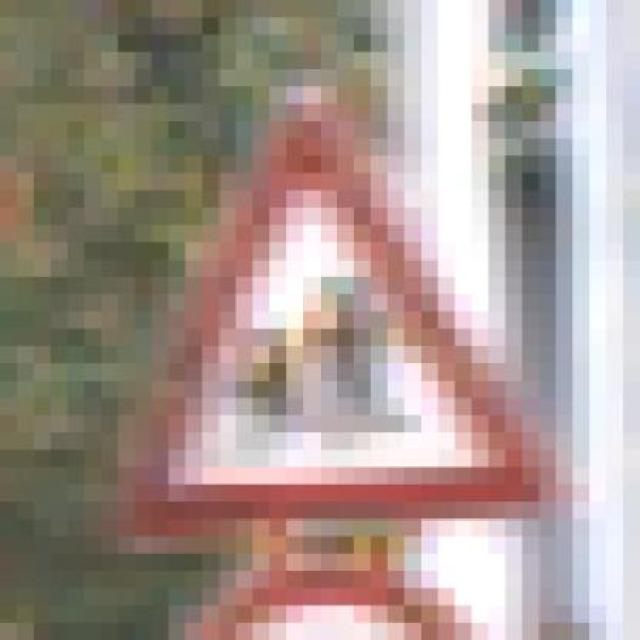Beware of children: (118, 69, 573, 554)
